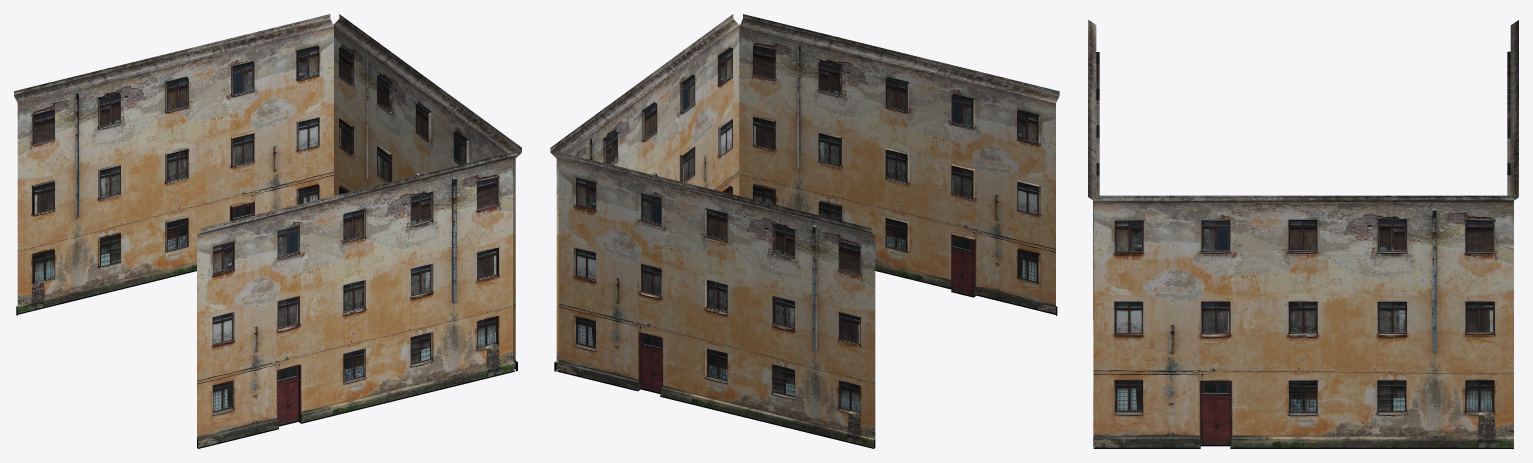
File: ged.fbx
3 renders of one model, left to right at view 1: azimuth 30°, elevation 25°; view 2: azimuth 150°, elevation 25°; view 3: azimuth 270°, elevation 25°, orthographic. The views are drawn at different scales.
Parts seen in each view (by area): view 1: 2c174wx.003, 2c174wx.002, 2c174wx.001; view 2: 2c174wx.002, 2c174wx.003, 2c174wx.001; view 3: 2c174wx.001, 2c174wx.003, 2c174wx.002.
Part boxes in pixels (x1,y1,x2,y2): 2c174wx.003: (197, 151, 516, 448); 2c174wx.002: (14, 14, 333, 315); 2c174wx.001: (333, 14, 521, 371); 2c174wx.002: (555, 151, 875, 448); 2c174wx.003: (739, 14, 1059, 315); 2c174wx.001: (550, 14, 739, 371); 2c174wx.001: (1093, 195, 1513, 448); 2c174wx.003: (1088, 19, 1099, 446); 2c174wx.002: (1507, 20, 1518, 200).
Bounding box in the file's own units: 146 × 96.11 × 147.
3 materials, 3 textured.
